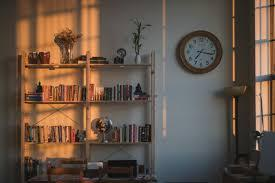Indoor Plant: (131, 17, 149, 64)
bookshelf: (17, 51, 156, 181)
clock: (178, 30, 223, 73)
flower: (57, 27, 81, 46)
vase: (30, 50, 51, 64), (59, 46, 70, 63)
